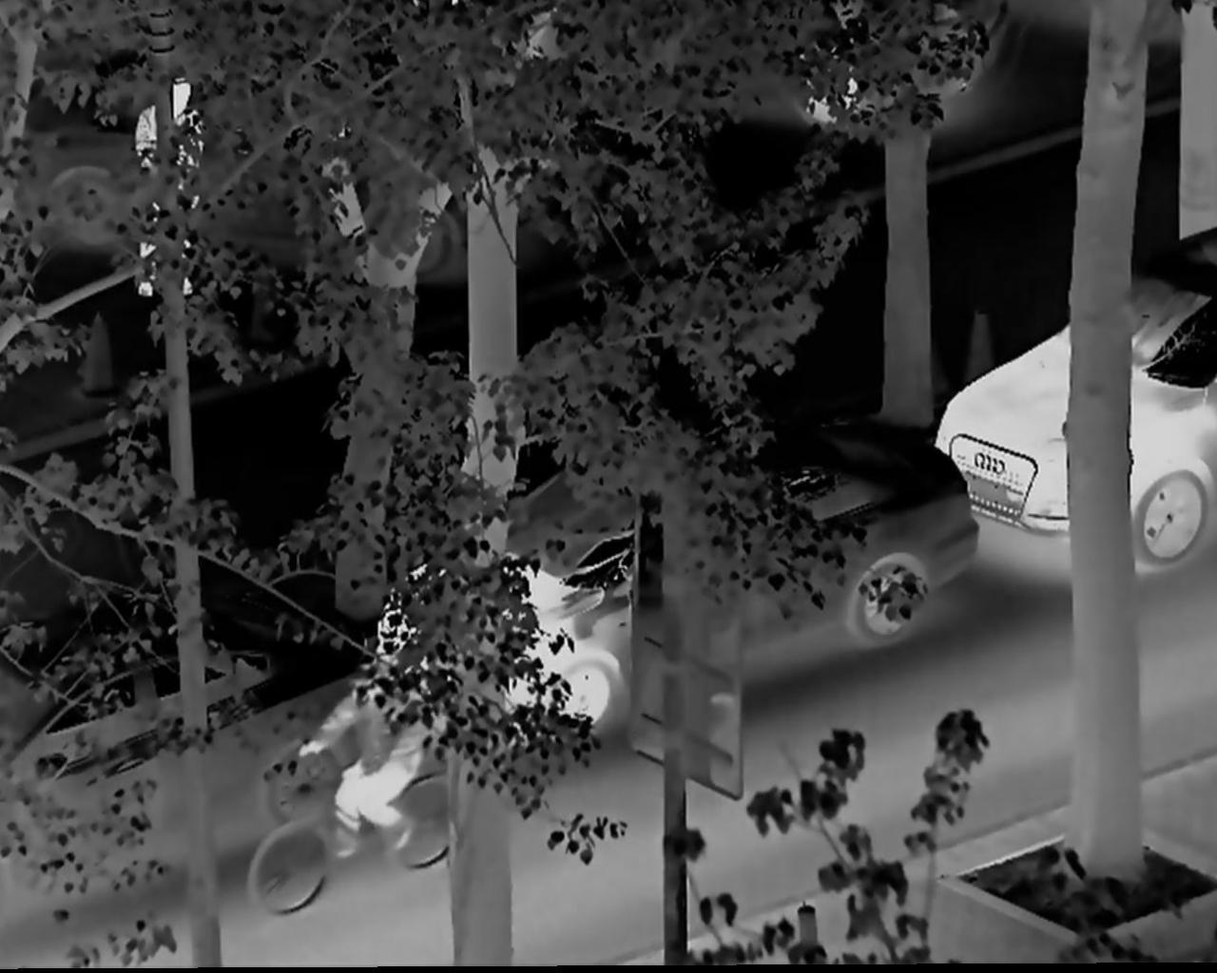person: (298, 653, 429, 857), (130, 71, 206, 301)
